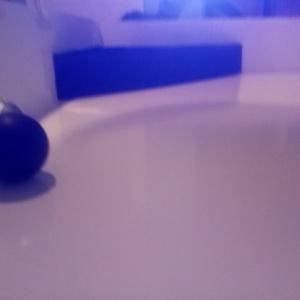alive_ball: (1, 98, 25, 151)
dead_ball: (1, 113, 48, 179)
